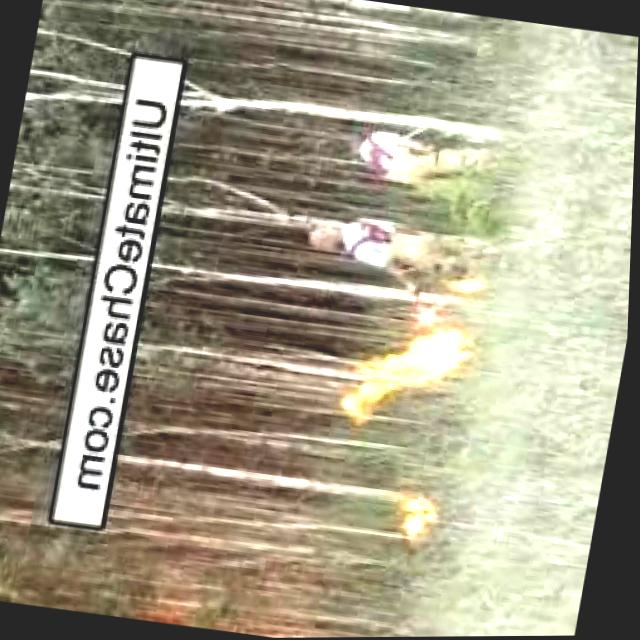Fire: (330, 301, 483, 446), (376, 478, 451, 557)
